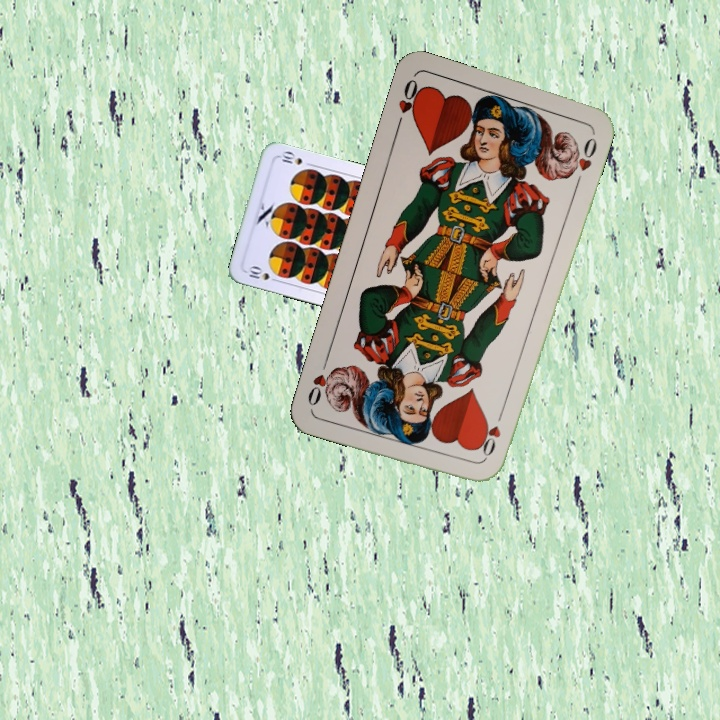HO: (392, 75, 426, 131), (478, 405, 507, 462)
S10: (242, 262, 282, 285)
